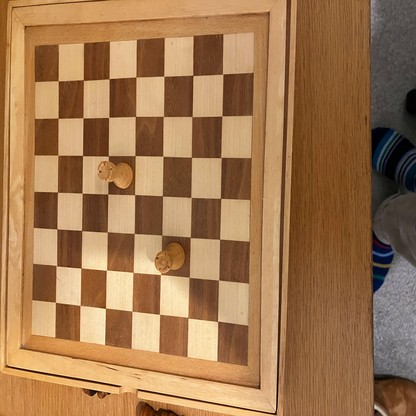rock_white: (154, 244, 185, 274), (97, 163, 133, 188)
